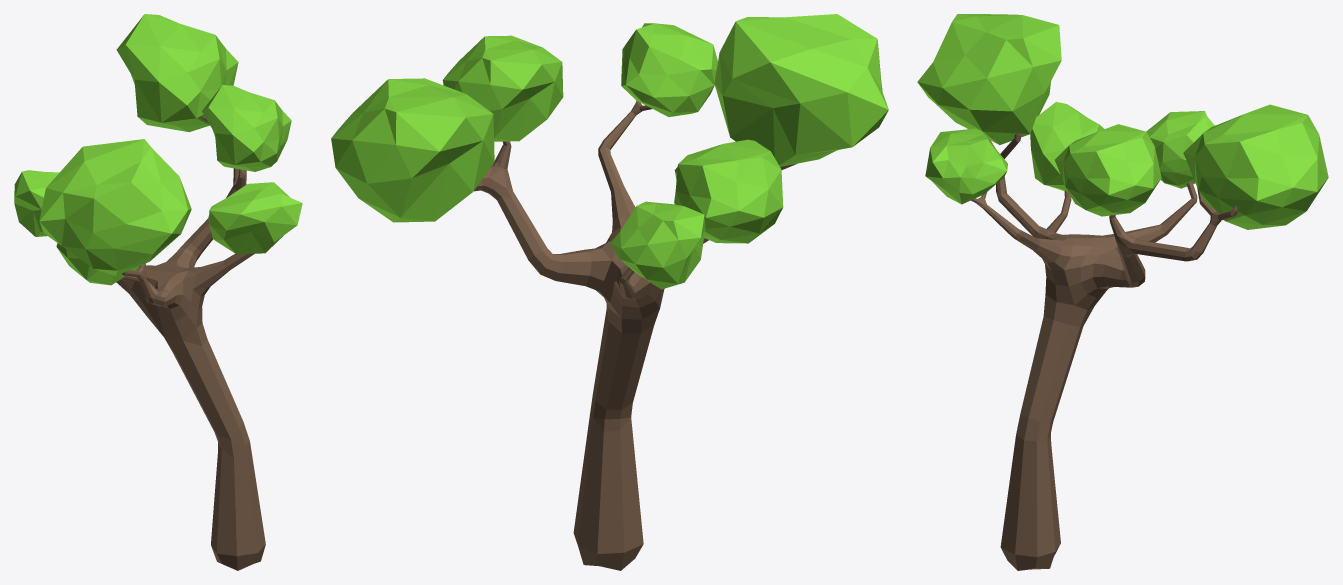
File: free3d-tree-a.glb
3 views of the same model, side by side, from view 1: azimuth 30°, elevation 25°; view 2: azimuth 150°, elevation 25°; view 3: azimuth 270°, elevation 25° (orthographic). The views are drawn at different scales.
Parts seen in each view (by area): view 1: Tree1.1; view 2: Tree1.1; view 3: Tree1.1.
Part boxes in pixels (x1,y1,x2,y2): Tree1.1: [14, 14, 302, 570]; Tree1.1: [331, 14, 888, 570]; Tree1.1: [917, 14, 1328, 570].
Bounding box in the file's own units: 3.36 × 4.59 × 3.56.
